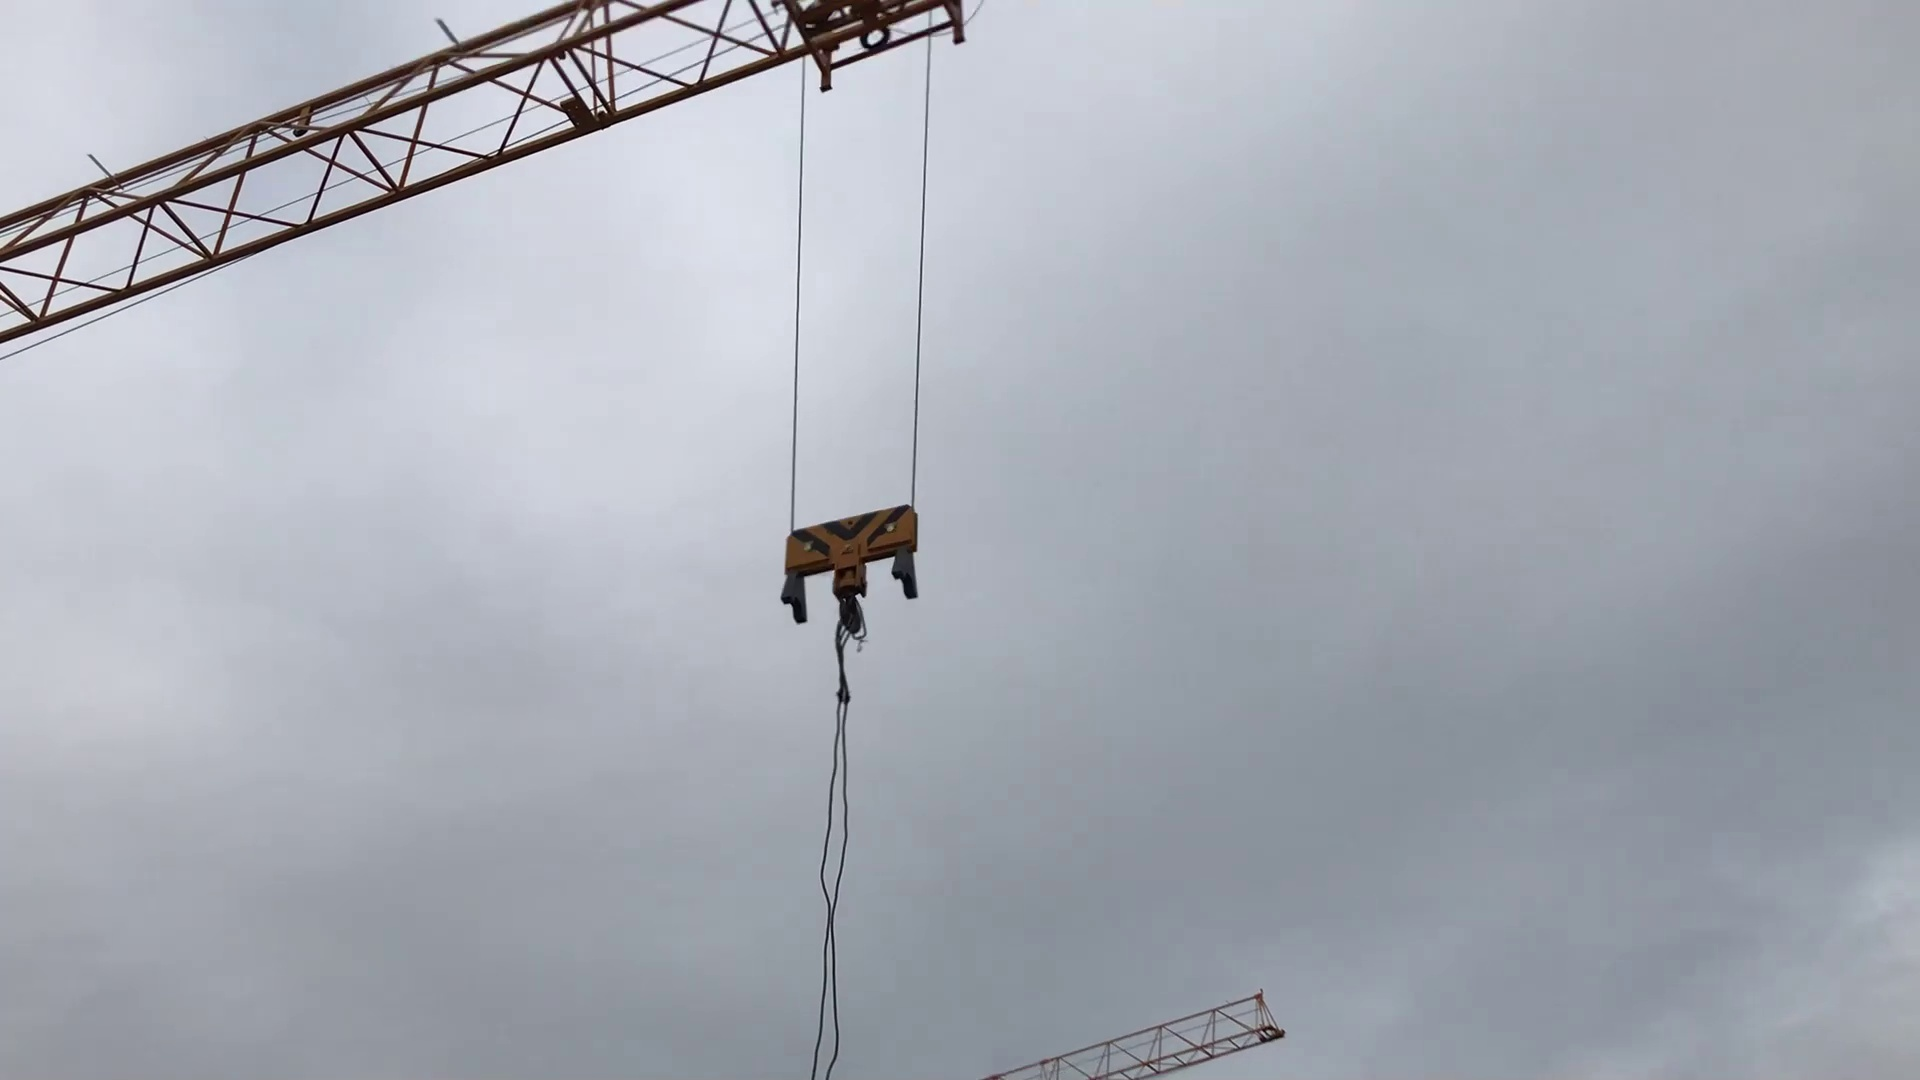hook: (781, 502, 928, 674)
